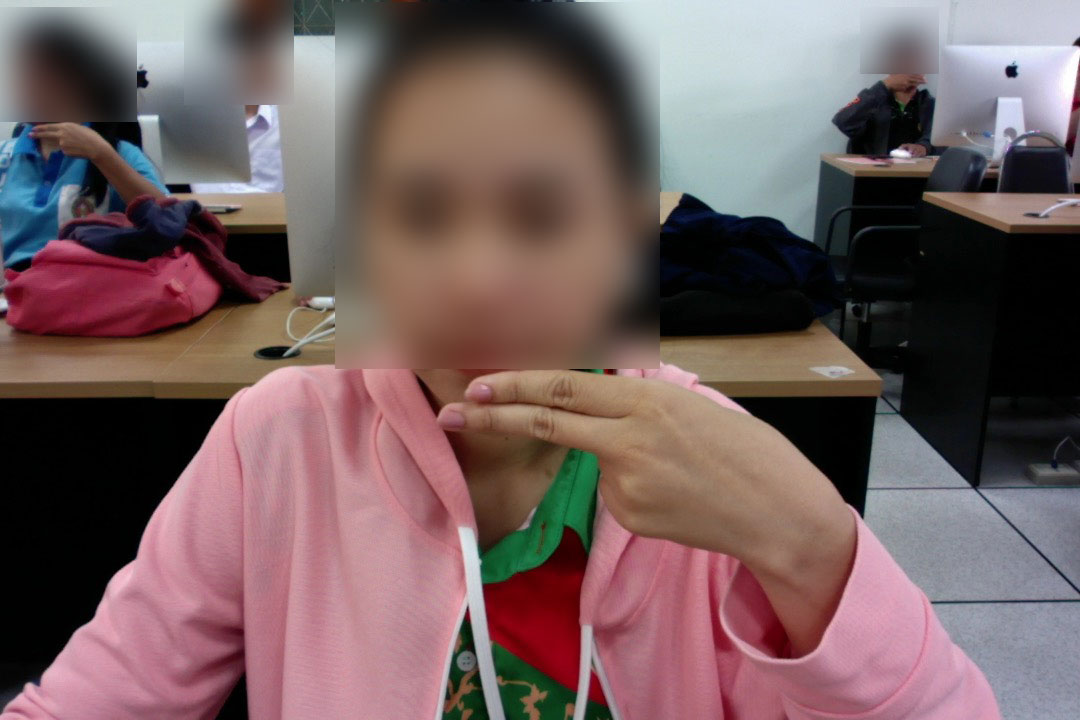hor: (422, 362, 852, 564)
